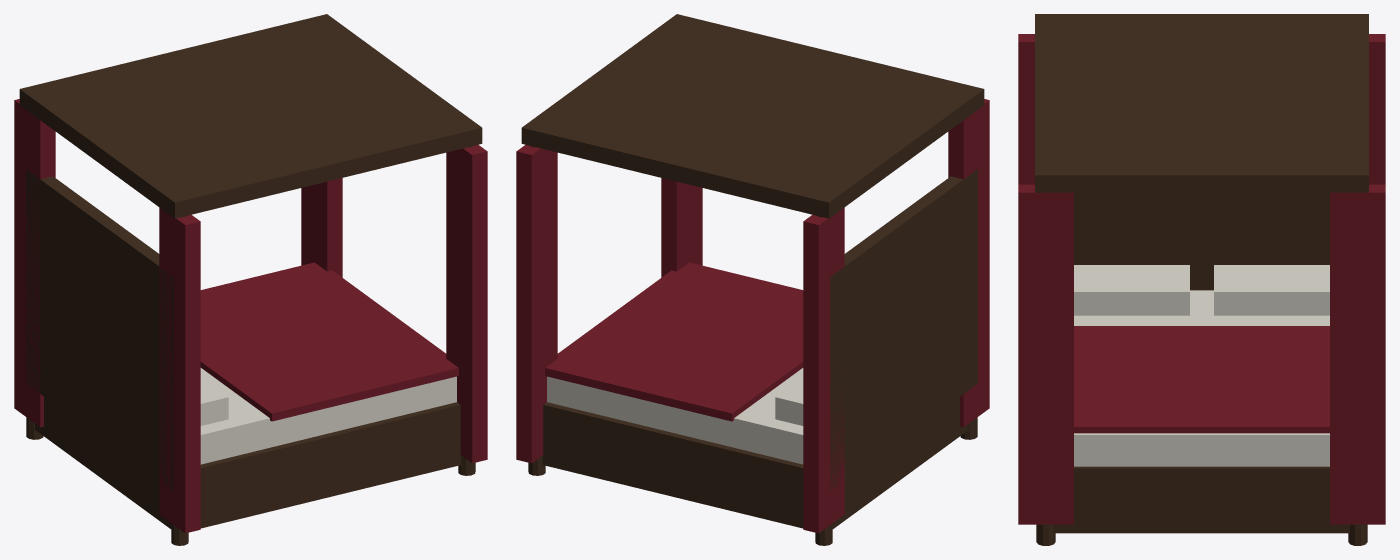
Rendered from SM_Mob_Yatak.fbx.
3 views of the same model, side by side, from view 1: azimuth 30°, elevation 25°; view 2: azimuth 150°, elevation 25°; view 3: azimuth 270°, elevation 25° (orthographic). The views are drawn at different scales.
Parts seen in each view (by area): view 1: Mob_Yatak; view 2: Mob_Yatak; view 3: Mob_Yatak.
Part boxes in pixels (x1=…): Mob_Yatak: x1=14, y1=14, x2=487, y2=545; Mob_Yatak: x1=516, y1=14, x2=989, y2=545; Mob_Yatak: x1=1018, y1=14, x2=1385, y2=545.
Bounding box in the file's own units: 240 × 258 × 231.
